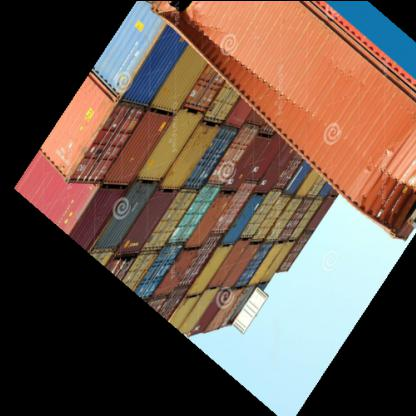Damage: (152, 4, 198, 32)
